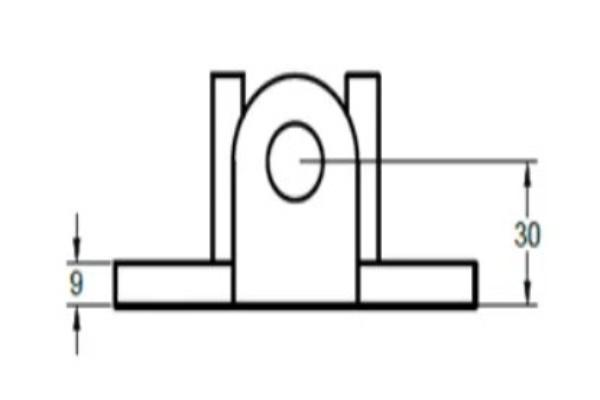dimensions: (506, 217, 547, 252), (61, 268, 90, 300)
